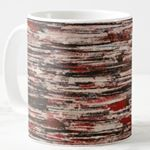cups: (2, 6, 138, 150)
